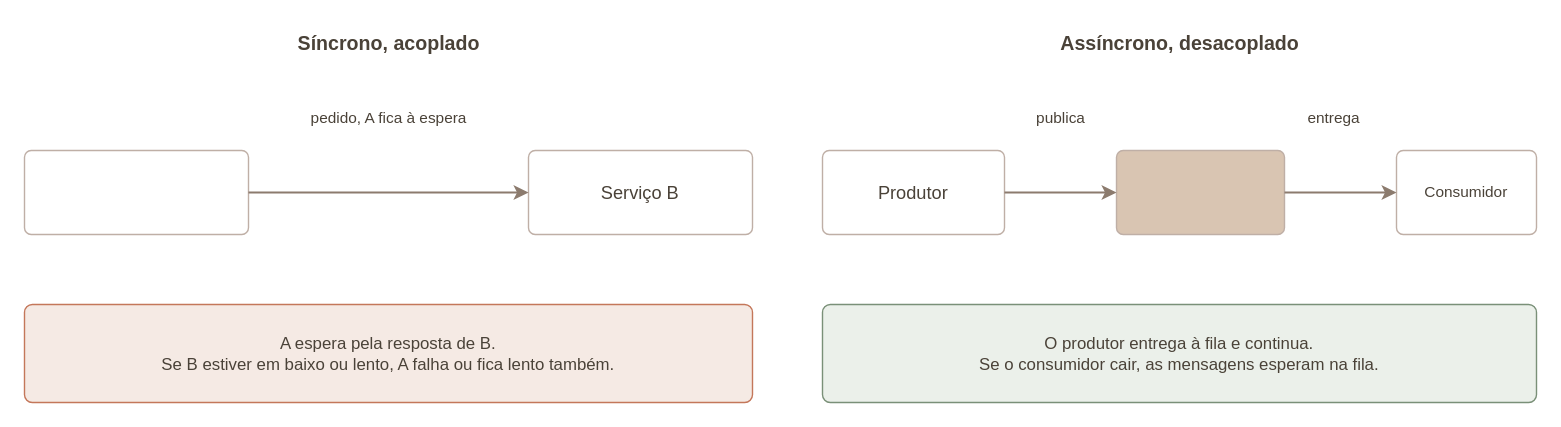
The diagram is 1561 pixels wide and 427 high, and some of its shapes have lost their labels. The centre of each missing label's shape, as x and y in pixels:
Fila: the point at 1199,191
Serviço A: the point at 135,191
